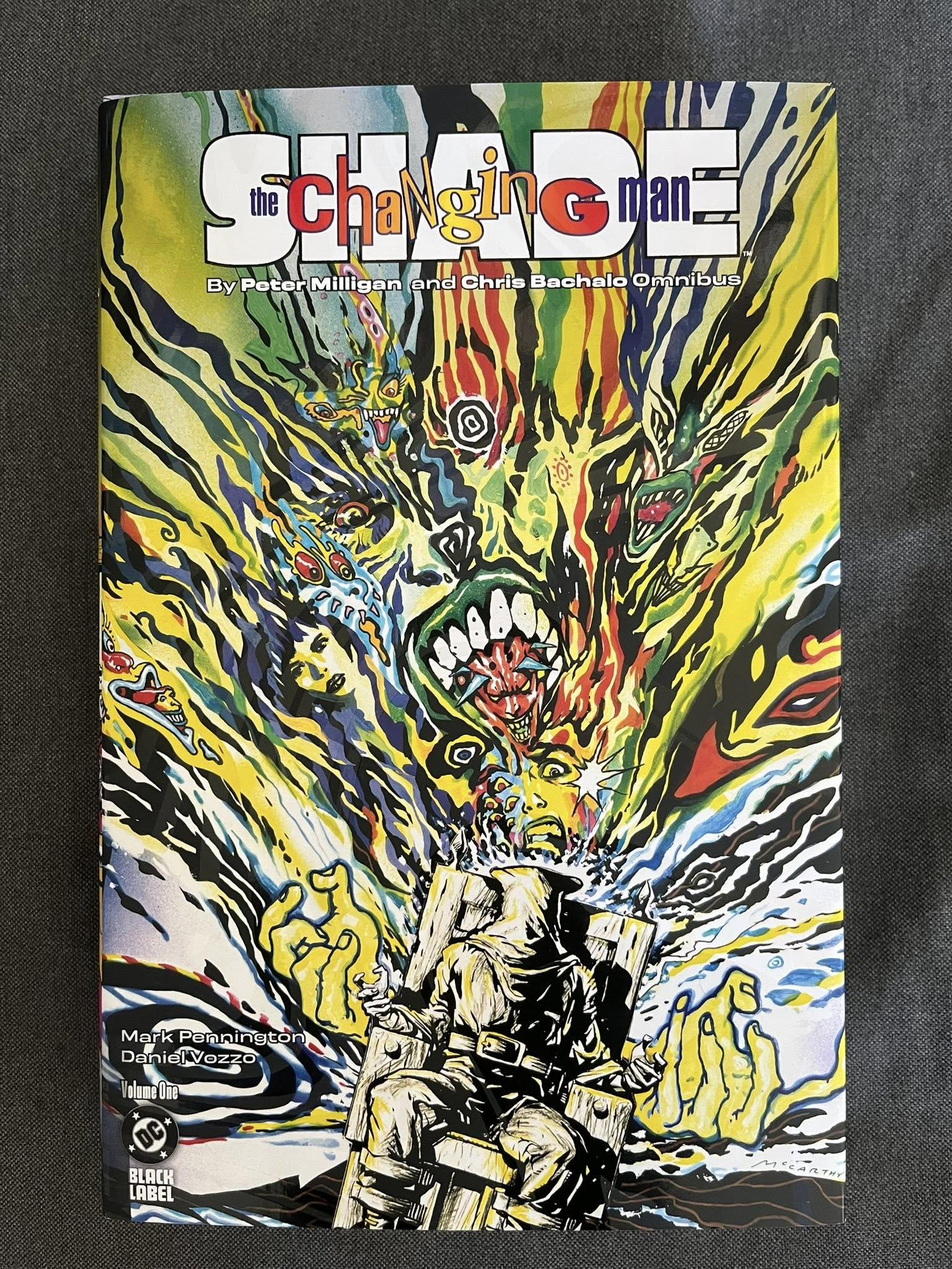comic: (93, 81, 846, 1233)
